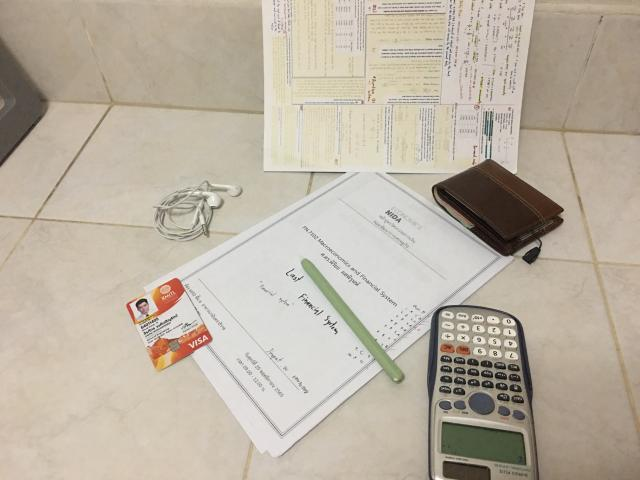Wallet: (432, 159, 564, 255)
paper: (145, 172, 512, 456), (262, 0, 534, 174)
wire: (154, 181, 241, 241)
